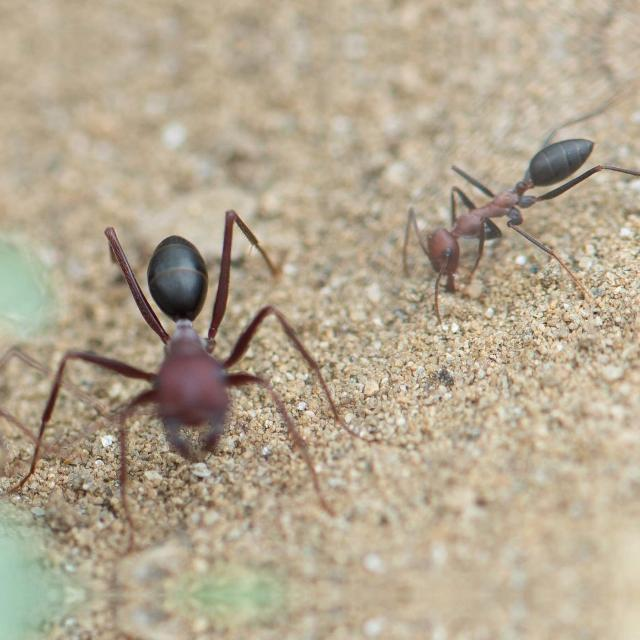Cataglyphis: (87, 205, 289, 485), (394, 105, 622, 291)
